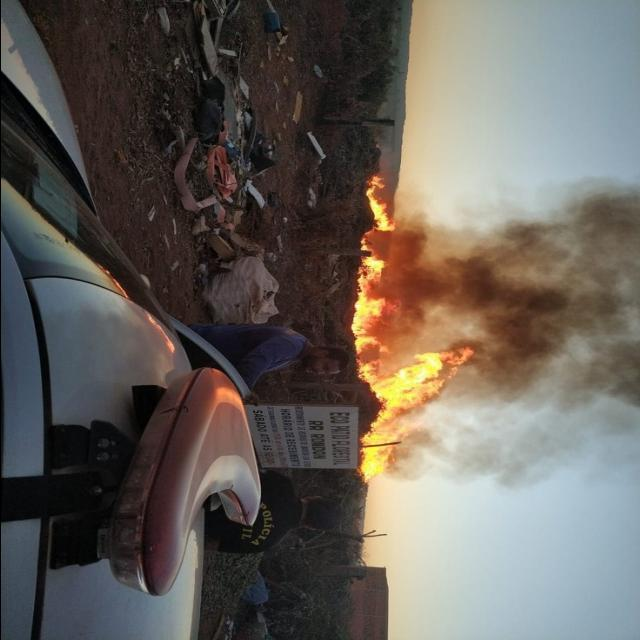Fire: (352, 346, 462, 484), (348, 172, 392, 352)
